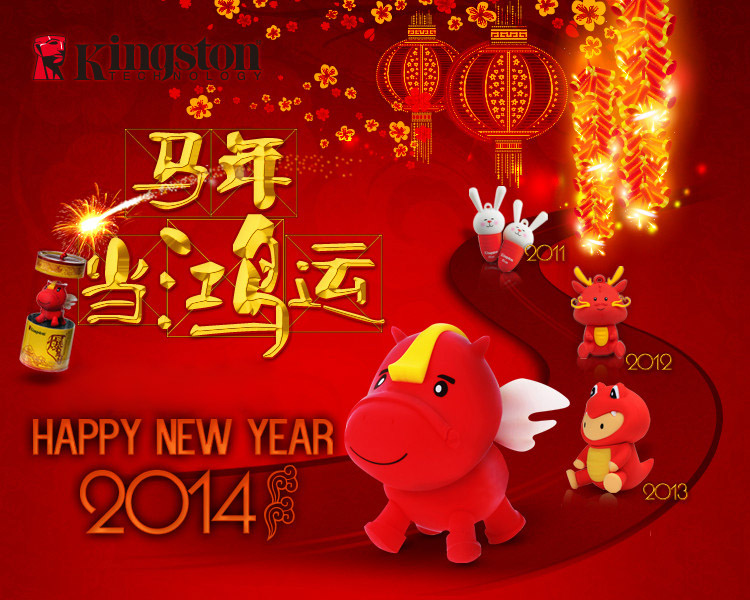Kingston: (25, 26, 276, 93)
